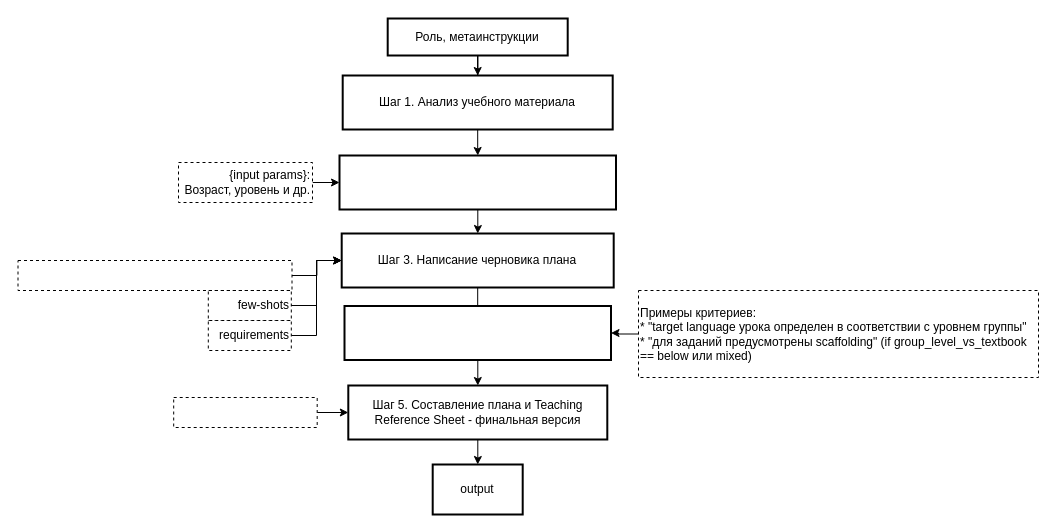
This 1056x532 diagram has some shape labels left out. Here are the shapes that lost their labels. From the top down, the centre of each, then its label:
the point at 477,182: Шаг 2. Анализ контекста урока
the point at 154,275: {methodology step-by-step guideline}
the point at 477,332: Шаг 4.Оценка черновика по критериям
the point at 245,412: html, css instruction
